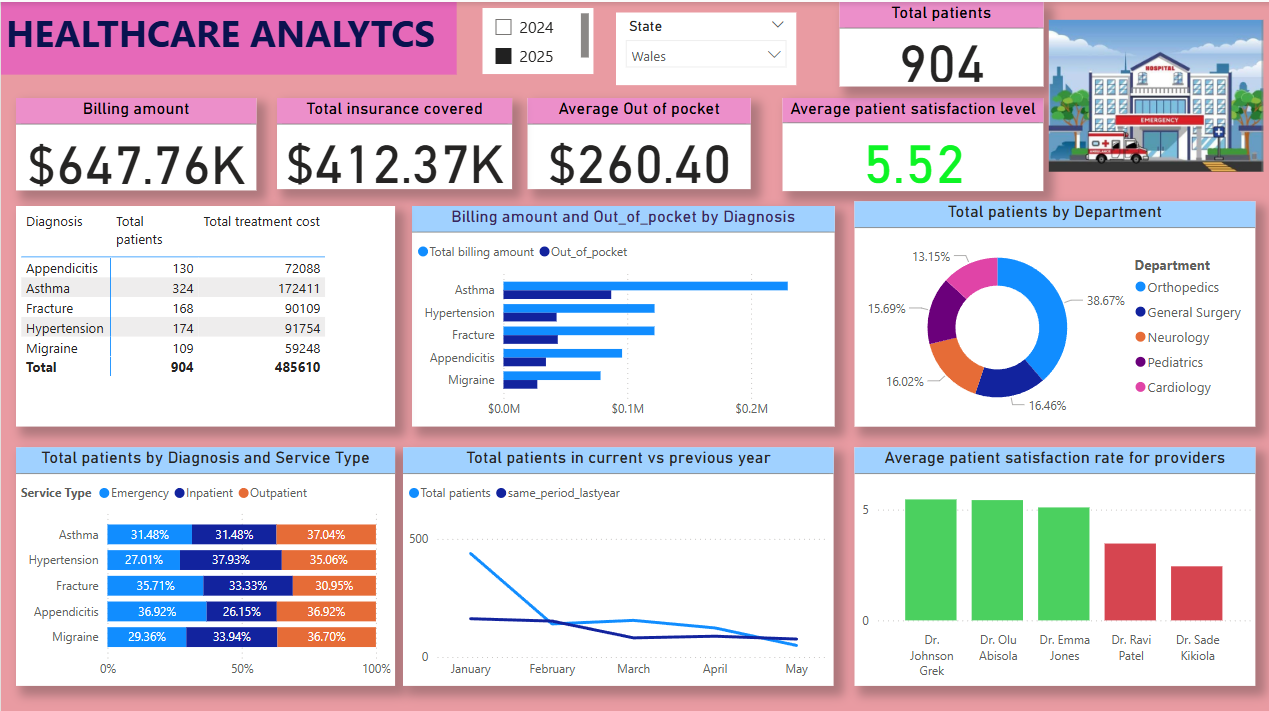

What the dashboard file says about the page in this screenshot:
{"tool":"powerbi","page":{"name":"Page 1","canvas":[1280,720],"ordinal":0},"visuals":[{"type":"card","title":"Average Out of pocket","fields":{"Values":["Table.Average_out_of_pocket"]},"box":[531.9,97.2,225.6,92.2],"z":0},{"type":"card","title":"Total insurance covered","fields":{"Values":["Table.Total insurance covered"]},"box":[279.3,97,237.5,92],"z":1000},{"type":"card","title":"Billing amount","fields":{"Values":["Table.Total billing amount"]},"box":[15.1,97,242.5,93.7],"z":2000},{"type":"card","title":"Average patient satisfaction level","fields":{"Values":["Table.average_patient_satisfaction_level"]},"box":[788.9,96.9,263.5,93.9],"z":3000},{"type":"clusteredBarChart","title":"Billing amount and Out_of_pocket by Diagnosis","fields":{"Category":["Diagnoses.Diagnosis"],"Y":["Table.Total billing amount","Table.Out_of_pocket"]},"box":[414.8,205.7,426.5,222.4],"z":4000},{"type":"hundredPercentStackedBarChart","title":"Total patients by Diagnosis and Service Type","fields":{"Category":["Diagnoses.Diagnosis"],"Series":["visits_.Service Type"],"Y":["Table.Total patients"]},"box":[15.1,449.9,383,240.8],"z":5000},{"type":"donutChart","title":"Total patients by Department","fields":{"Category":["Department.Department"],"Y":["CountNonNull(visits_.Patient ID)"]},"box":[861.3,200.7,404.7,227.5],"z":6000},{"type":"card","title":"Total patients","fields":{"Values":["Table.Total patients"]},"box":[846.3,0,205.7,85.3],"z":7000},{"type":"lineChart","title":"Total patients in current vs previous year","fields":{"Category":["Calender.Date.Variation.Date Hierarchy.Month"],"Y":["Table.Total patients","Table.same_period_lastyear"]},"box":[406.4,449.9,434.8,240.8],"z":8000},{"type":"clusteredColumnChart","title":"Average patient satisfaction rate  for providers","fields":{"Category":["Providers.Provider Name"],"Y":["Table.average_patient_satisfaction_level"]},"box":[861.3,449.9,404.7,240.8],"z":9000},{"type":"slicer","fields":{"Values":["cities.State"]},"box":[620.5,10,182.3,73.6],"z":10000},{"type":"slicer","fields":{"Values":["Calender.Date.Variation.Date Hierarchy.Year"]},"box":[486.7,6.7,112.1,66.9],"z":11000},{"type":"pivotTable","fields":{"Rows":["Diagnoses.Diagnosis"],"Values":["Table.Total patients","Table.Total treatment cost"]},"box":[15.1,205.7,383,222.4],"z":12000},{"type":"textbox","box":[0,0,459.9,73.6],"z":13000},{"type":"image","box":[1052.4,0,227.1,189.3],"z":14000}]}

Visuals, with their boxes in screenshot pixels (x1, y1, x2, y2), scaled from the page's 1280x720 canvas onto the 1269x711 screenshot:
"Average Out of pocket" card: bbox=(527, 96, 751, 187)
"Total insurance covered" card: bbox=(277, 96, 512, 187)
"Billing amount" card: bbox=(15, 96, 255, 188)
"Average patient satisfaction level" card: bbox=(782, 96, 1043, 188)
"Billing amount and Out_of_pocket by Diagnosis" clusteredBarChart: bbox=(411, 203, 834, 423)
"Total patients by Diagnosis and Service Type" hundredPercentStackedBarChart: bbox=(15, 444, 395, 682)
"Total patients by Department" donutChart: bbox=(854, 198, 1255, 423)
"Total patients" card: bbox=(839, 0, 1043, 84)
"Total patients in current vs previous year" lineChart: bbox=(403, 444, 834, 682)
"Average patient satisfaction rate  for providers" clusteredColumnChart: bbox=(854, 444, 1255, 682)
slicer - cities.State: bbox=(615, 10, 796, 83)
slicer - Calender.Date.Variation.Date Hierarchy.Year: bbox=(483, 7, 594, 73)
pivotTable - Diagnoses.Diagnosis x Table.Total patients: bbox=(15, 203, 395, 423)
textbox: bbox=(0, 0, 456, 73)
image: bbox=(1043, 0, 1268, 187)
